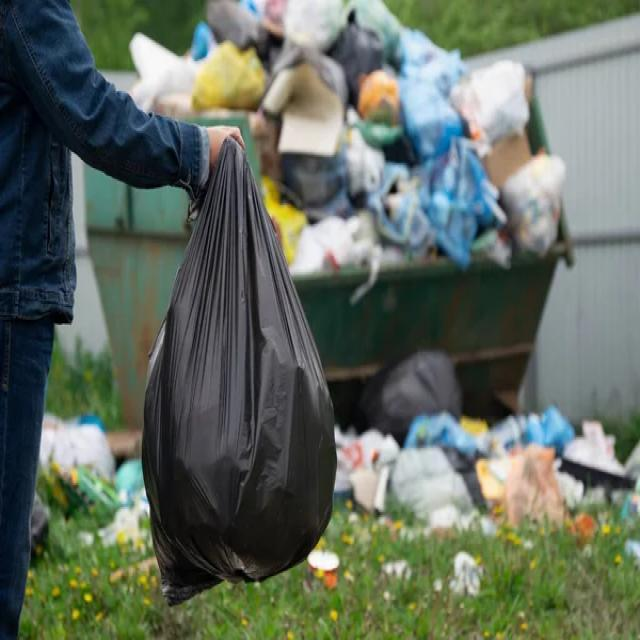garbage: (135, 141, 337, 602), (276, 0, 574, 287), (327, 353, 640, 538)
